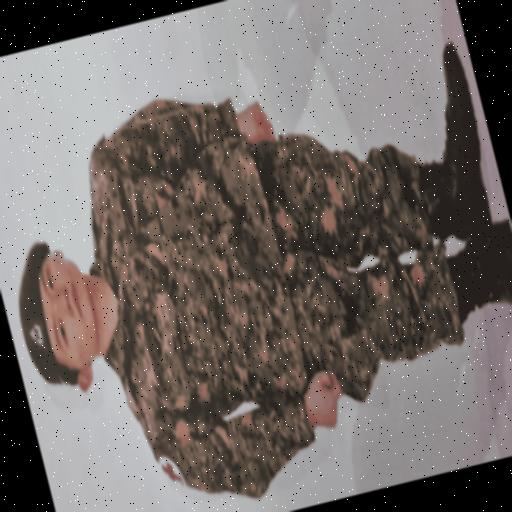korea army: (55, 40, 498, 512)
